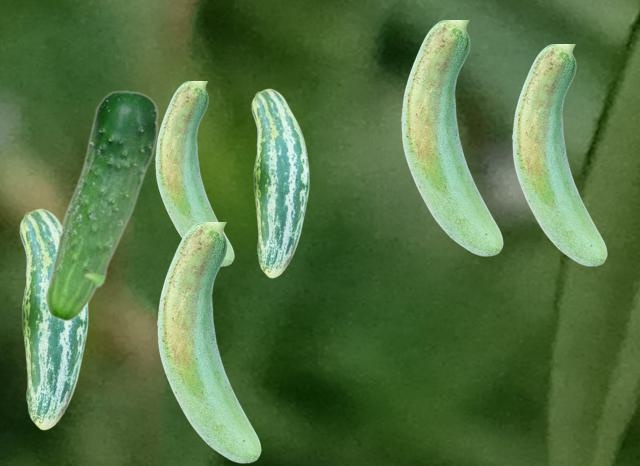cucumber: (43, 90, 158, 321), (157, 222, 260, 462), (401, 20, 502, 255), (512, 44, 606, 265), (19, 208, 87, 429), (155, 81, 233, 265), (251, 88, 308, 277)
